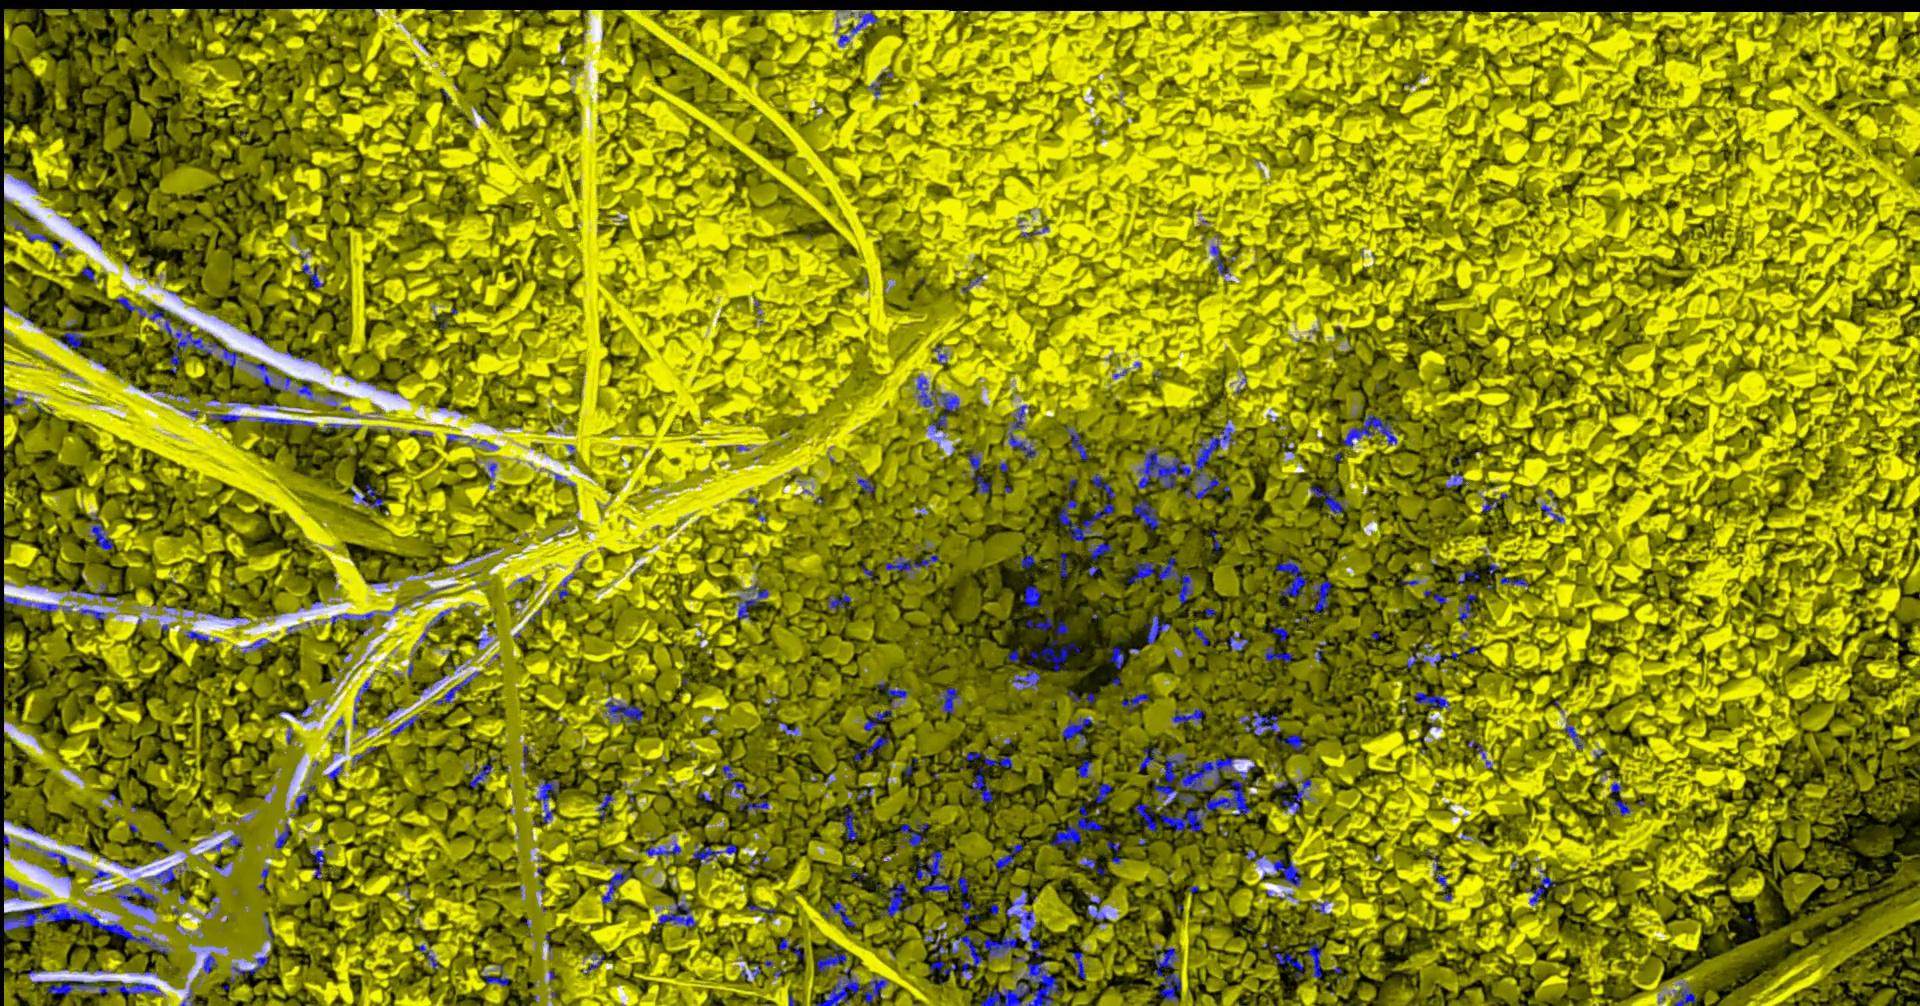ant: (1059, 473, 1116, 541), (1129, 556, 1194, 603), (1239, 710, 1304, 753), (818, 967, 889, 1005), (1030, 619, 1081, 671), (918, 375, 960, 432), (1051, 805, 1103, 851), (865, 682, 910, 730), (1343, 413, 1398, 447), (924, 925, 959, 976), (47, 981, 164, 995), (1156, 944, 1183, 1000), (434, 671, 481, 704), (917, 850, 952, 893), (737, 583, 770, 620), (1277, 558, 1308, 597), (535, 779, 561, 823), (603, 869, 636, 904), (1274, 944, 1307, 978), (968, 448, 992, 493), (1281, 779, 1313, 812), (881, 880, 910, 916), (886, 554, 940, 573), (231, 955, 270, 981), (606, 697, 644, 723), (1063, 715, 1095, 746), (659, 902, 697, 927), (1312, 485, 1346, 513), (695, 843, 738, 865), (422, 608, 451, 640), (1528, 875, 1559, 904), (856, 735, 891, 761), (1434, 856, 1454, 901), (818, 942, 848, 972), (147, 864, 179, 890), (4, 596, 58, 611), (1065, 426, 1090, 460), (1274, 859, 1303, 887), (1186, 475, 1222, 498), (1134, 499, 1161, 530), (93, 514, 116, 550), (117, 884, 159, 903), (971, 767, 994, 801), (1010, 431, 1037, 459), (1145, 615, 1172, 644), (354, 680, 371, 727), (968, 751, 1015, 767), (354, 483, 386, 507), (902, 819, 930, 846), (996, 842, 1023, 869), (850, 11, 880, 36), (1012, 667, 1045, 688), (1305, 939, 1323, 978), (391, 713, 422, 735), (1312, 580, 1332, 614), (832, 901, 857, 926), (723, 763, 747, 790), (1173, 708, 1209, 725), (117, 296, 147, 316), (1416, 692, 1451, 709), (1211, 245, 1230, 276), (938, 686, 960, 713), (1123, 692, 1150, 713), (1088, 895, 1109, 923), (17, 222, 48, 240), (471, 763, 494, 788), (211, 835, 244, 851), (257, 417, 317, 426), (303, 264, 325, 288), (420, 944, 442, 968), (740, 793, 770, 810), (1029, 610, 1054, 630), (846, 807, 861, 840), (1142, 747, 1163, 770), (1564, 724, 1583, 749), (1460, 593, 1477, 622), (333, 612, 375, 624), (311, 850, 328, 878), (1013, 405, 1032, 429), (646, 843, 682, 856), (1082, 857, 1107, 875), (1265, 647, 1294, 662), (1542, 503, 1564, 522), (829, 592, 852, 611), (599, 793, 615, 821), (185, 630, 222, 641), (276, 823, 292, 848), (1023, 586, 1043, 607), (1073, 950, 1087, 978), (1017, 554, 1036, 574), (560, 575, 575, 601), (63, 330, 85, 348), (1090, 542, 1112, 559), (1675, 988, 1698, 1005), (585, 954, 604, 973), (863, 561, 881, 580), (1469, 739, 1487, 758), (963, 901, 977, 925), (933, 343, 949, 365), (298, 380, 314, 401), (1446, 473, 1468, 488), (1408, 653, 1430, 668), (1425, 589, 1448, 603), (1111, 647, 1125, 669), (1271, 625, 1290, 641), (1096, 782, 1112, 801), (212, 413, 253, 420), (1195, 626, 1210, 647), (1611, 800, 1632, 815), (485, 464, 498, 488), (486, 973, 510, 986), (1459, 570, 1481, 584), (323, 423, 362, 431), (52, 240, 67, 259), (1501, 575, 1529, 586), (48, 851, 69, 865), (328, 763, 344, 780), (83, 265, 100, 281), (150, 305, 168, 320), (858, 478, 876, 493), (780, 721, 799, 735), (204, 954, 218, 973), (1312, 902, 1332, 915), (750, 904, 776, 915), (1079, 760, 1093, 777), (5, 394, 27, 405), (81, 608, 105, 619), (248, 638, 270, 648), (4, 876, 20, 890), (1484, 495, 1498, 511), (1062, 551, 1069, 578), (959, 876, 970, 893), (94, 870, 112, 880)
